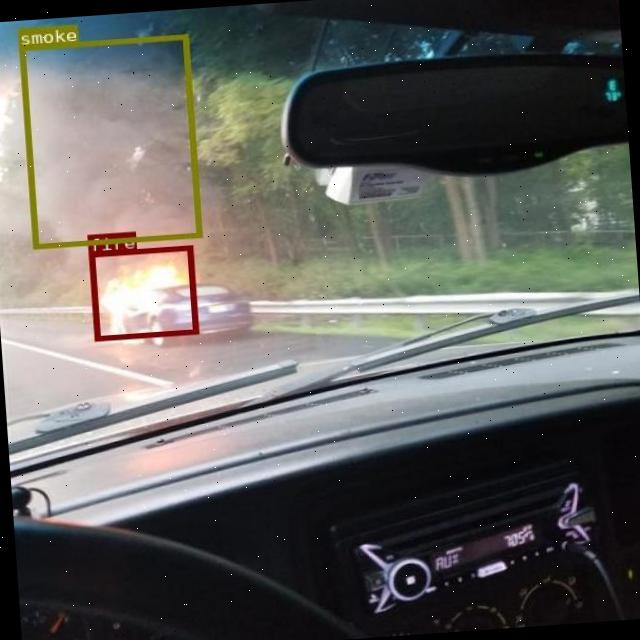fire: (88, 244, 198, 339)
smoke: (17, 33, 201, 248)
